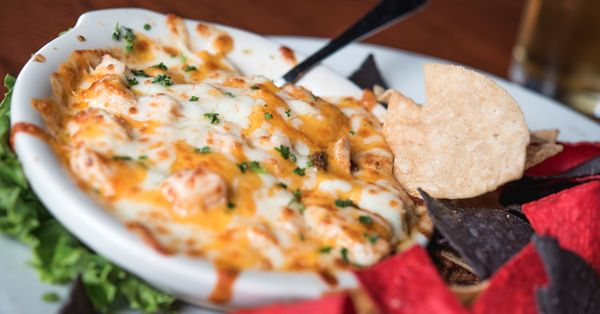pizza: (506, 2, 600, 121)
sandwich: (277, 1, 427, 86)
